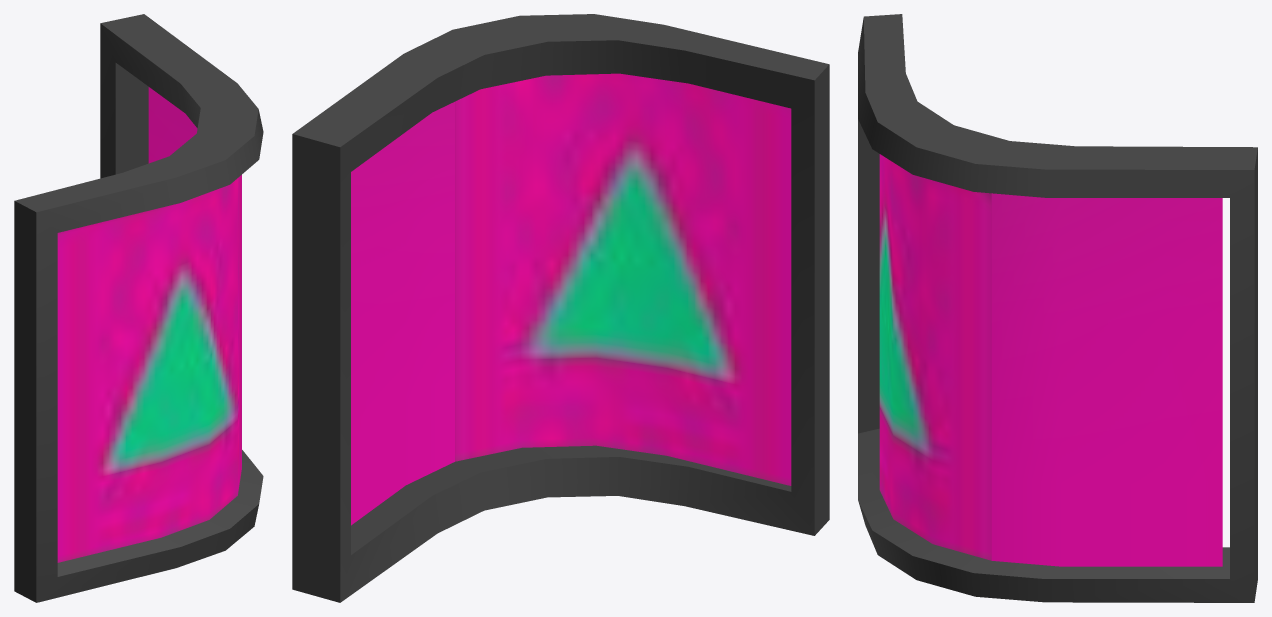
File: Sign_Corner_Small1.glb
3 views of the same model, side by side, from view 1: azimuth 30°, elevation 25°; view 2: azimuth 150°, elevation 25°; view 3: azimuth 270°, elevation 25° (orthographic). The views are drawn at different scales.
Visible parts, largest first — view 1: Sign_Corner_Small1; view 2: Sign_Corner_Small1; view 3: Sign_Corner_Small1.
Part boxes in pixels (bbox=[...]): Sign_Corner_Small1: bbox=[14, 14, 263, 602]; Sign_Corner_Small1: bbox=[292, 14, 829, 602]; Sign_Corner_Small1: bbox=[858, 14, 1257, 602].
Size of the model in its own units: 0.5691 by 0.7269 by 0.6085.
2 materials, 1 textured.
